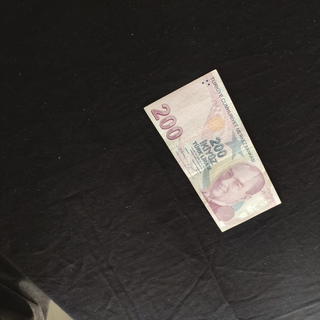200TLFront: (143, 69, 281, 232)
